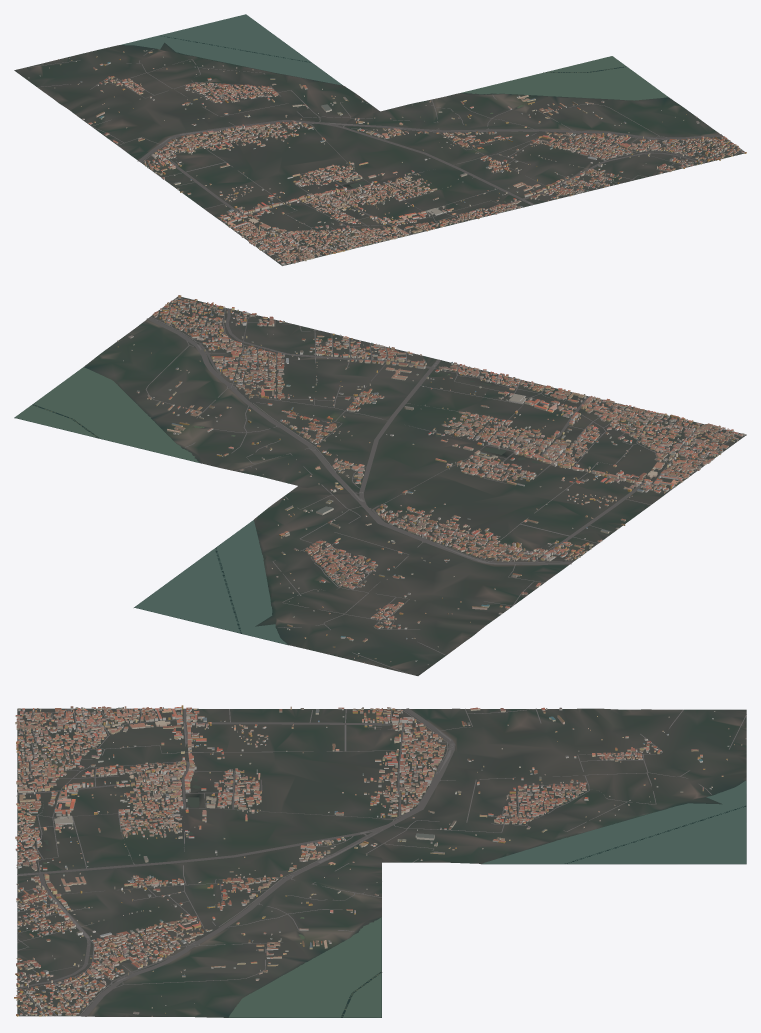
3 views of the same model, one above another, from view 1: azimuth 30°, elevation 25°; view 2: azimuth 150°, elevation 25°; view 3: azimuth 270°, elevation 25° (orthographic). The views are drawn at different scales.
Parts seen in each view (by area): view 1: ground, buildings, water, roads; view 2: ground, buildings, water, roads; view 3: ground, buildings, water, roads.
Part boxes in pixels (x1,y1,x2,y2): ground: (14, 21, 744, 265); buildings: (28, 50, 746, 265); water: (121, 14, 668, 210); roads: (23, 49, 742, 264); ground: (14, 296, 746, 675); buildings: (117, 295, 745, 664); water: (15, 367, 541, 644); roads: (145, 297, 740, 673); ground: (17, 708, 746, 1017); buildings: (14, 705, 746, 1016); water: (43, 776, 746, 1017); roads: (16, 708, 746, 1016).
Bounding box in the file's own units: 2811 × 31.48 × 2818.
